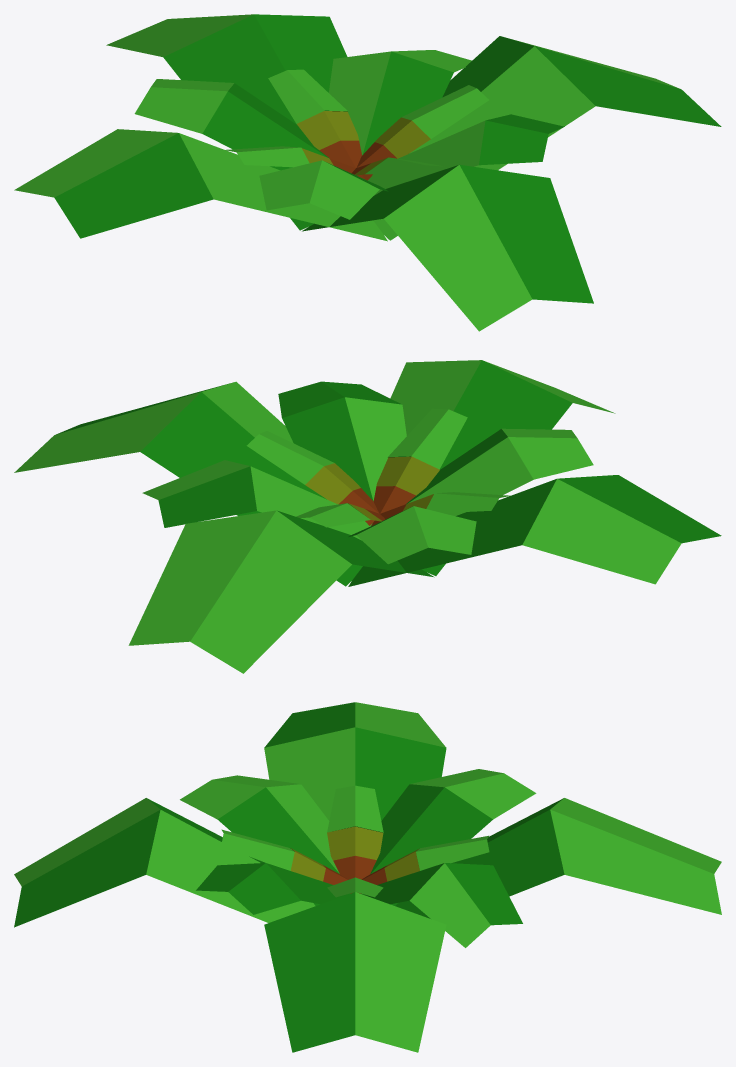
File: Arbusto.fbx
The picture shows the model from 3 angles, top to bottom: view 1: azimuth 30°, elevation 25°; view 2: azimuth 150°, elevation 25°; view 3: azimuth 270°, elevation 25°; orthographic projection. The views are drawn at different scales.
Visible parts, largest first — view 1: Cube; view 2: Cube; view 3: Cube.
Part boxes in pixels (x1,y1,x2,y2): Cube: [14, 14, 721, 331]; Cube: [14, 360, 721, 673]; Cube: [14, 702, 721, 1052].
Bounding box in the file's own units: 604 × 115 × 609.
